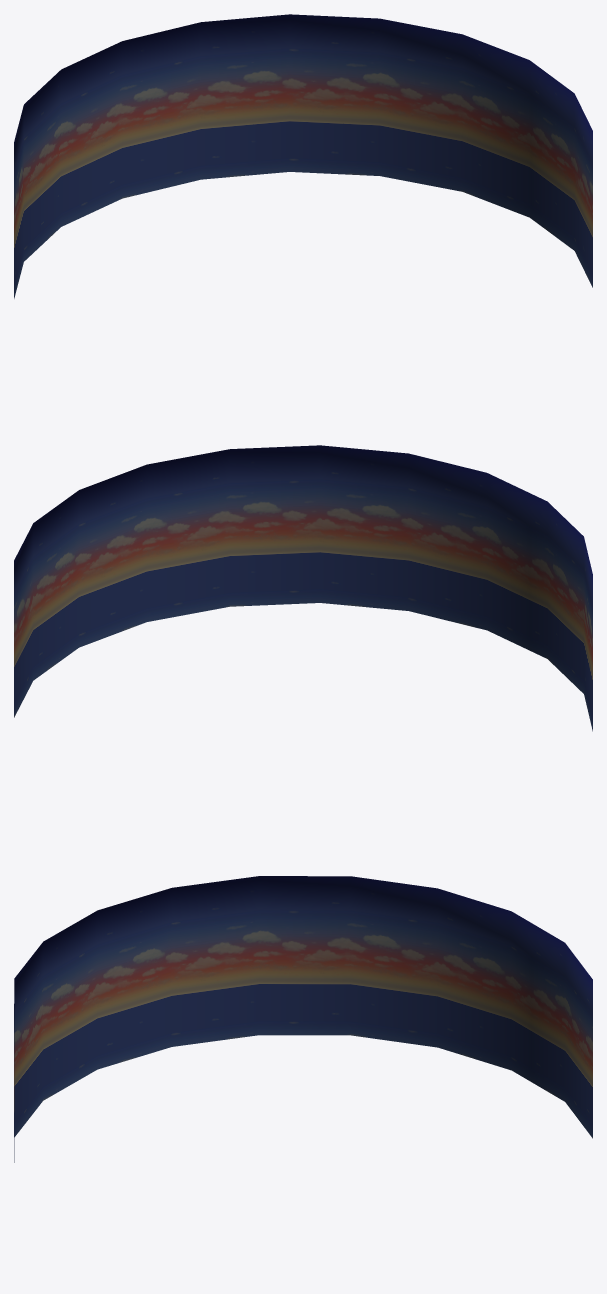
Rendered from vrcorn.glb.
The picture shows the model from 3 angles, top to bottom: view 1: azimuth 30°, elevation 25°; view 2: azimuth 150°, elevation 25°; view 3: azimuth 270°, elevation 25°; orthographic projection.
Parts seen in each view (by area): view 1: polygon0; view 2: polygon0; view 3: polygon0.
Boxes of the visible parts, x1,y1,x2,y2 form: polygon0: (14,14,592,298); polygon0: (14,445,592,731); polygon0: (14,876,592,1162).
Size of the model in its own units: 777 by 297 by 777.
Materials: 1 (1 with a texture image).
